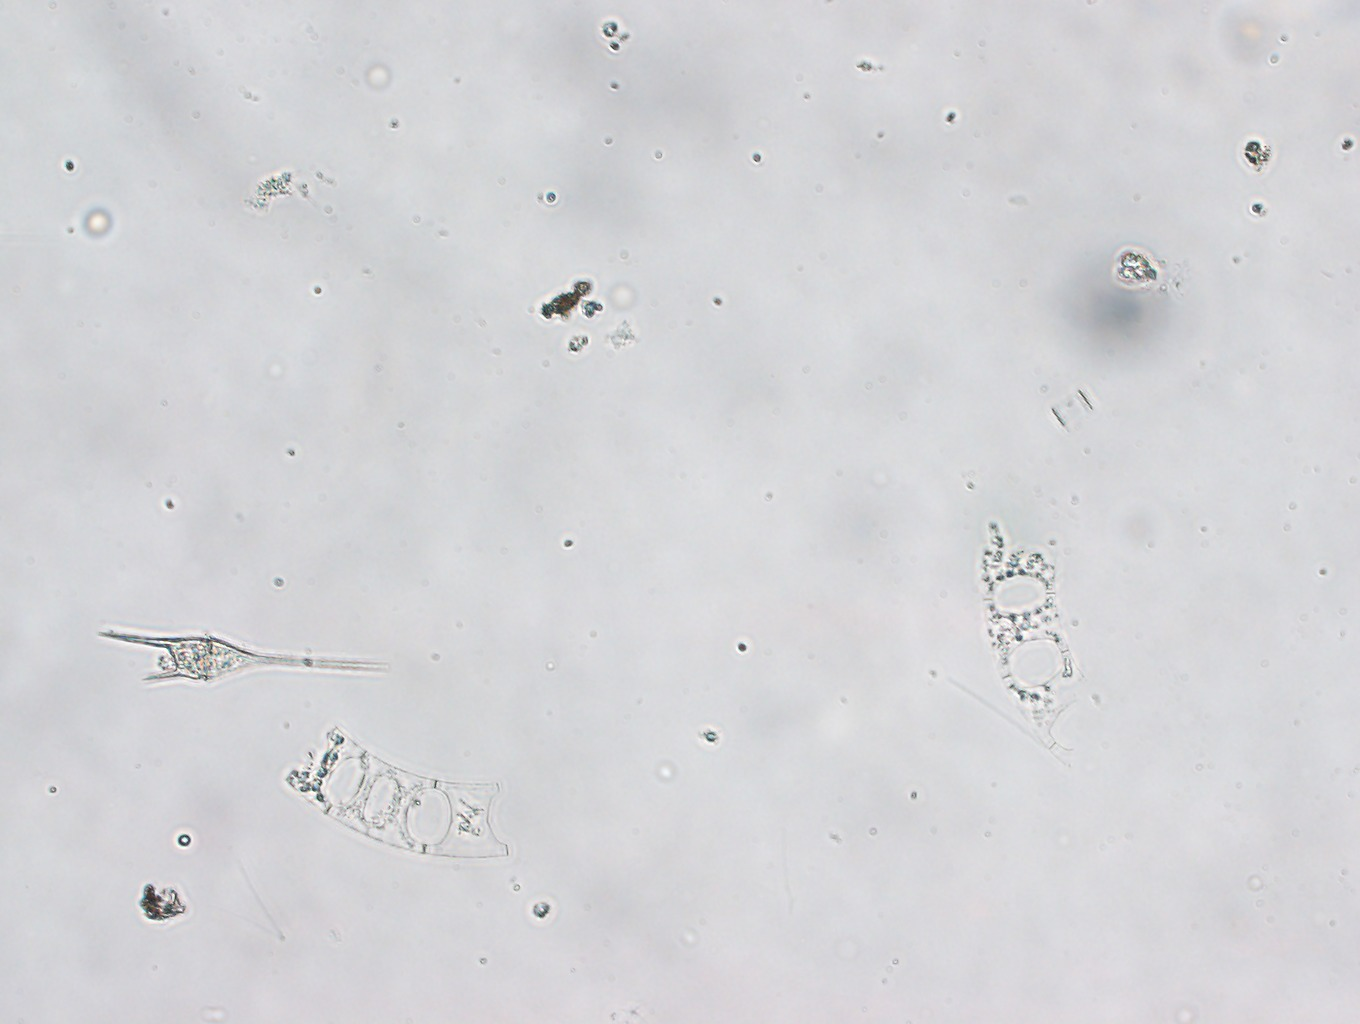ceratium furca: (94, 630, 385, 683)
eucampia: (980, 516, 1107, 762), (282, 725, 507, 861)
